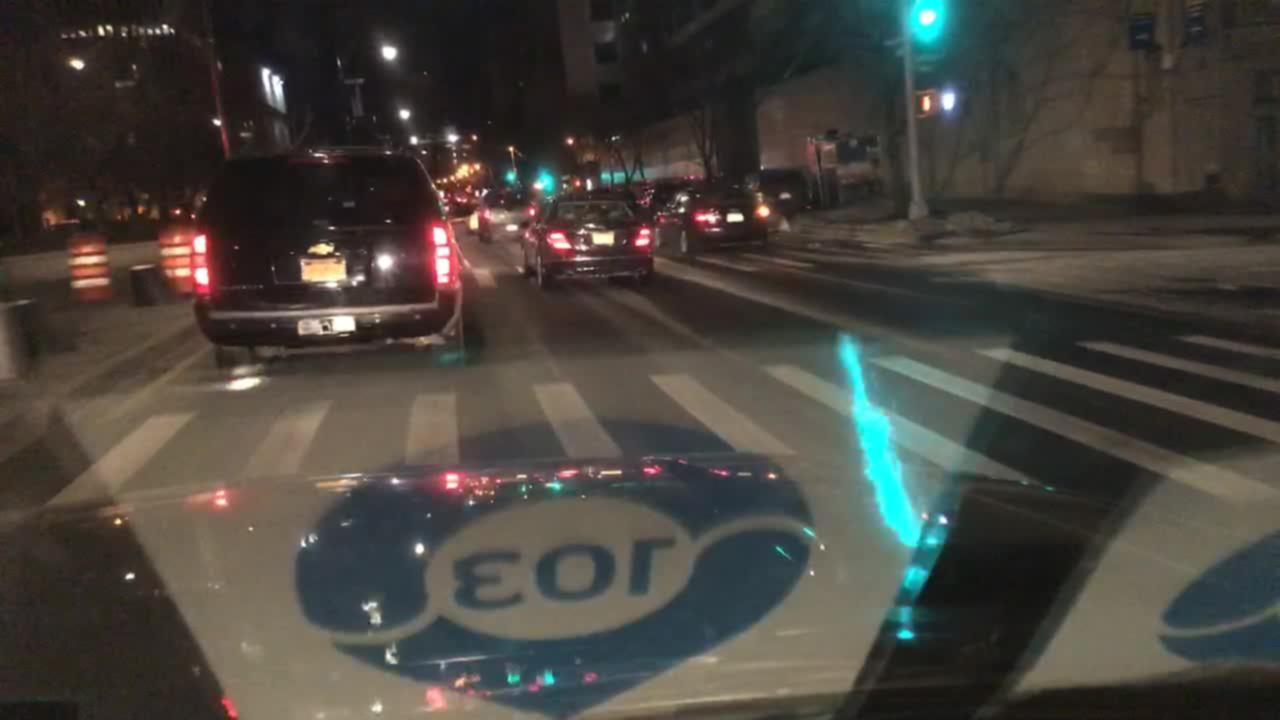chevrolet: (295, 233, 350, 262)
